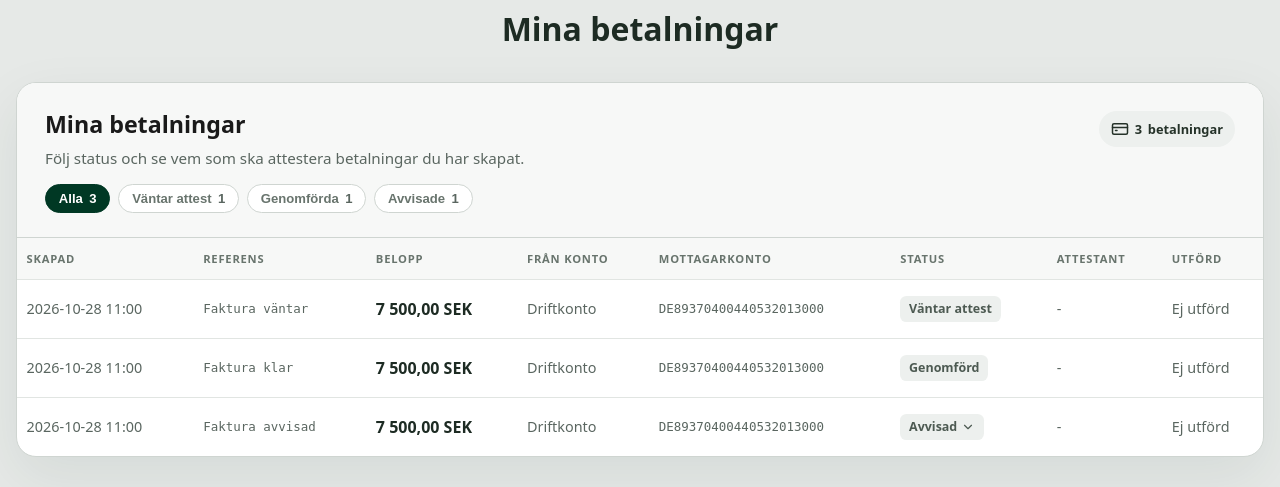
Test case: MyPaymentsPage › filters the list by status, with a count per status
Check: the text "Faktura klar" is shown, box x1=194 y1=338 x2=366 y2=397
Click the button "Avvisade 1". click: (424, 198)
box: x1=374 y1=184 x2=473 y2=213
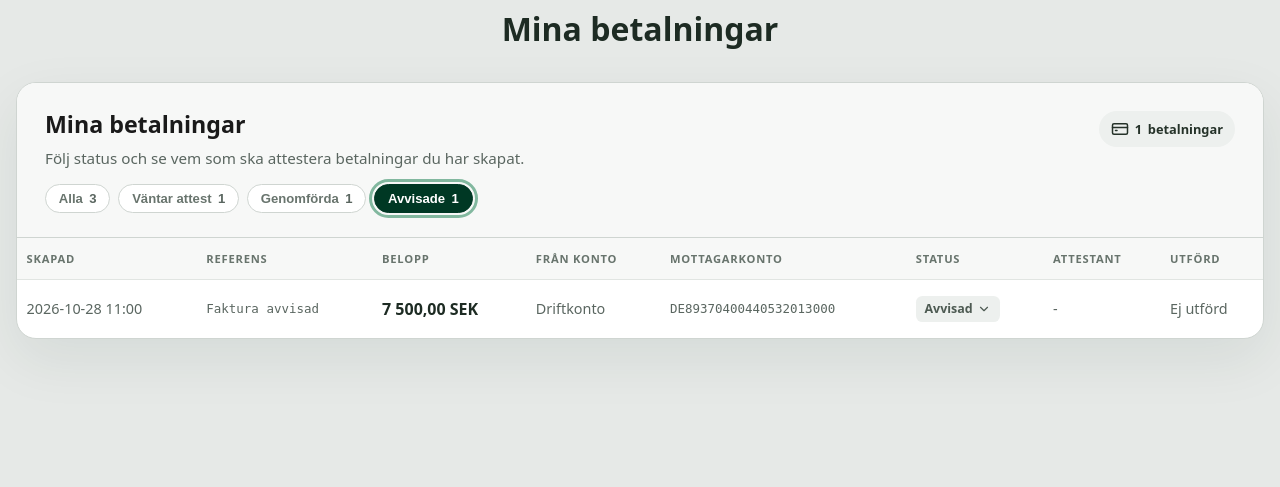
Check: the text "Faktura klar" is gone
Check: the text "Faktura väntar" is gone
Check: the element labelled "1 betalningar" is shown, box x1=1099 y1=111 x2=1235 y2=147
Click the button "Alla 3". click: (78, 198)
box: x1=45 y1=184 x2=110 y2=213
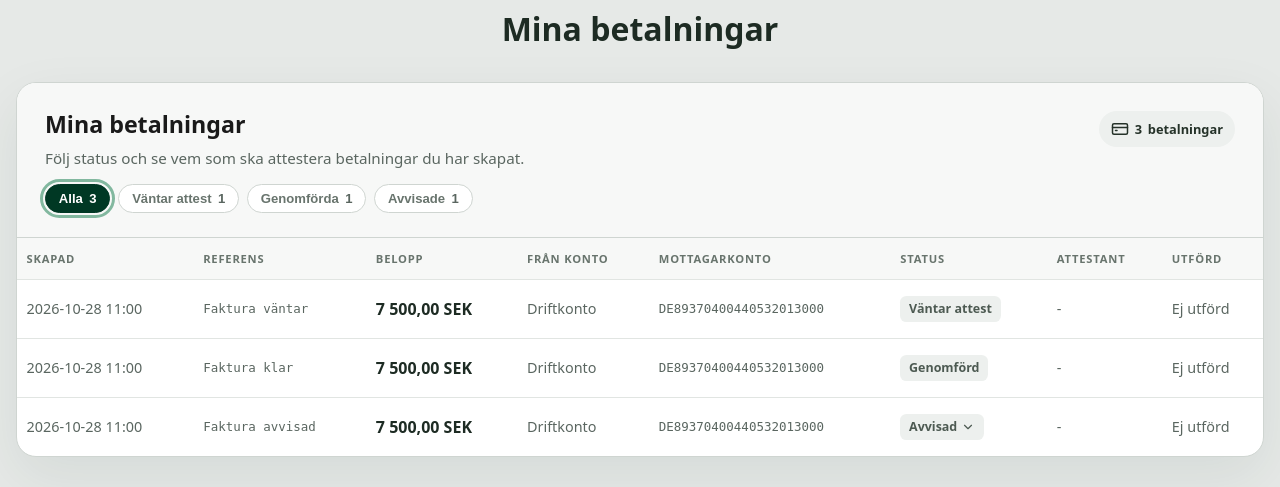
Check: the text "Faktura klar" is shown, box x1=194 y1=338 x2=366 y2=397
